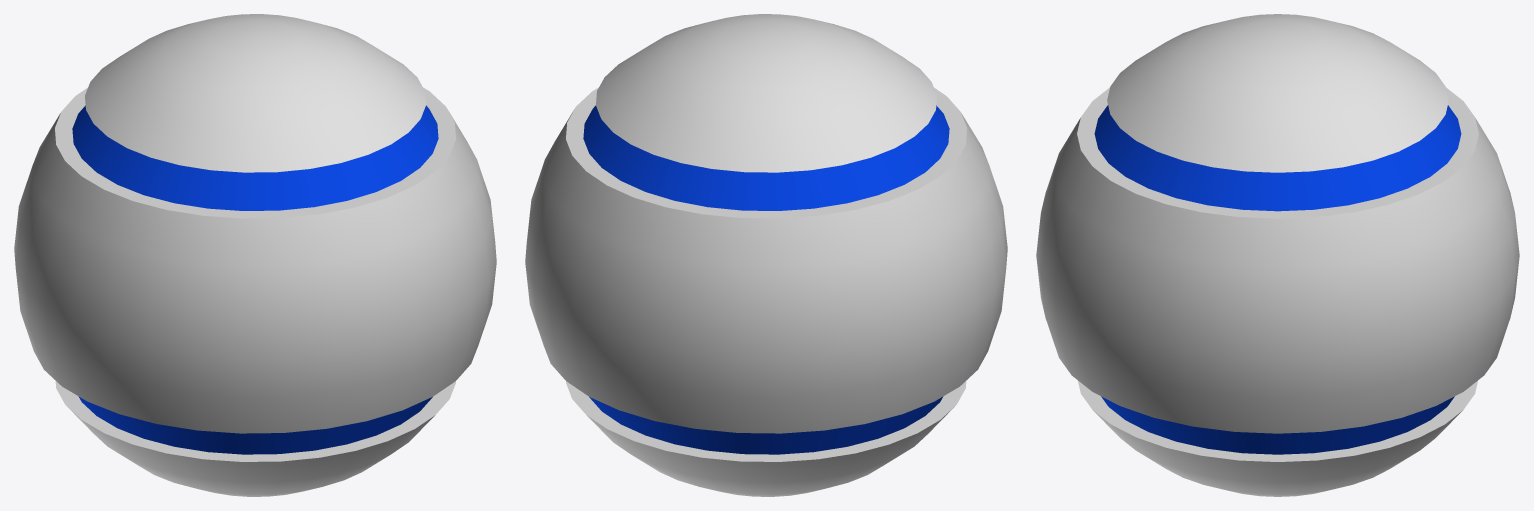
Rendered from ball.fbx.
3 views of the same model, side by side, from view 1: azimuth 30°, elevation 25°; view 2: azimuth 150°, elevation 25°; view 3: azimuth 270°, elevation 25° (orthographic).
Parts seen in each view (by area): view 1: Sphere; view 2: Sphere; view 3: Sphere.
Part boxes in pixels (<box>): Sphere: <box>14,14,496,496</box>; Sphere: <box>525,14,1007,496</box>; Sphere: <box>1036,14,1519,496</box>.
Size of the model in its own units: 200 by 200 by 200.
